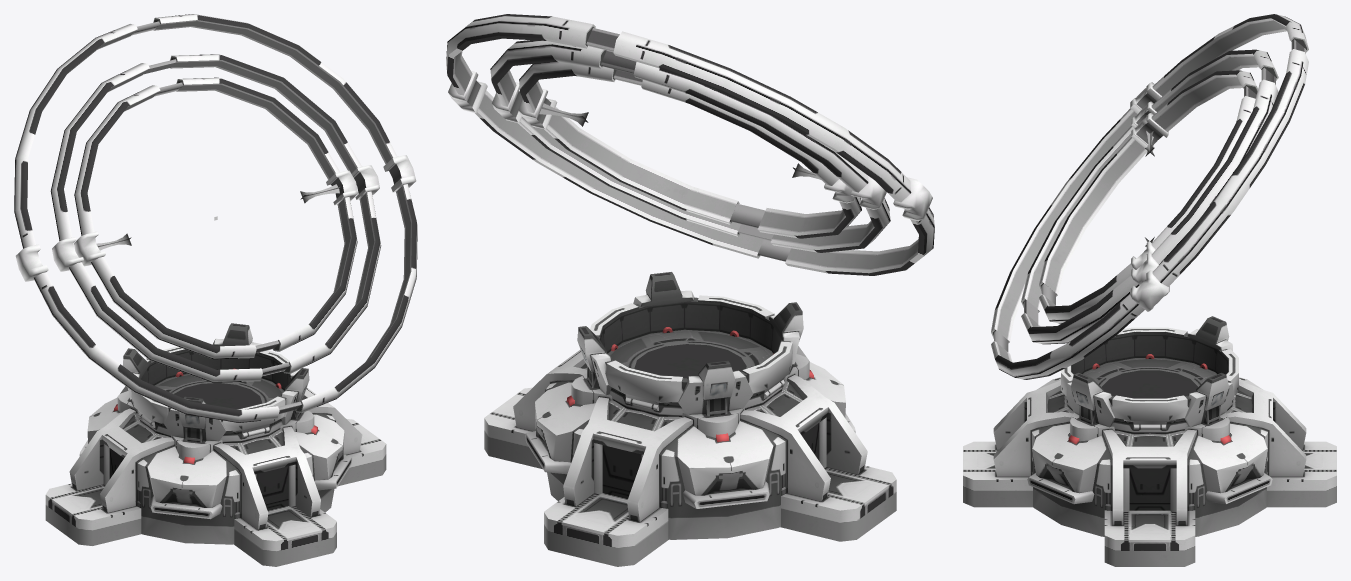
File: fusion-reactor.glb
3 views of the same model, side by side, from view 1: azimuth 30°, elevation 25°; view 2: azimuth 150°, elevation 25°; view 3: azimuth 270°, elevation 25° (orthographic). The views are drawn at different scales.
Parts seen in each view (by area): view 1: fusion-reactor-b, fusion-reactor, fusion-reactor-4, fusion-reactor-4-1, fusion-reactor-3, fusion-reactor-3-1, fusion-reactor-2, fusion-reactor-2-1, fusion-reactor-c, fusion-reactor-a, fusion-reactor-1; view 2: fusion-reactor-a, fusion-reactor-b, fusion-reactor-4, fusion-reactor-c, fusion-reactor-4-1, fusion-reactor-2-1, fusion-reactor-3, fusion-reactor, fusion-reactor-3-1, fusion-reactor-2, fusion-reactor-1; view 3: fusion-reactor-c, fusion-reactor, fusion-reactor-a, fusion-reactor-4-1, fusion-reactor-4, fusion-reactor-2, fusion-reactor-3-1, fusion-reactor-3, fusion-reactor-2-1, fusion-reactor-b, fusion-reactor-1.
Boxes of the visible parts, box(x1,y1,x2,y2) form: fusion-reactor-b: box(45, 390, 268, 545); fusion-reactor: box(214, 358, 352, 566); fusion-reactor-4: box(14, 24, 301, 422); fusion-reactor-4-1: box(131, 14, 417, 412); fusion-reactor-3: box(50, 59, 262, 382); fusion-reactor-3-1: box(170, 54, 381, 376); fusion-reactor-2: box(74, 85, 279, 359); fusion-reactor-2-1: box(155, 77, 357, 351); fusion-reactor-c: box(166, 323, 386, 486); fusion-reactor-a: box(79, 342, 208, 455); fusion-reactor-1: box(174, 383, 262, 408); fusion-reactor-a: box(544, 360, 790, 566); fusion-reactor-b: box(709, 302, 896, 541); fusion-reactor-4: box(613, 31, 934, 275); fusion-reactor-c: box(484, 303, 659, 500); fusion-reactor-4-1: box(446, 14, 763, 258); fusion-reactor-2-1: box(518, 61, 739, 224); fusion-reactor-3: box(601, 50, 890, 252); fusion-reactor: box(603, 272, 809, 361); fusion-reactor-3-1: box(490, 40, 773, 240); fusion-reactor-2: box(641, 80, 861, 238); fusion-reactor-1: box(634, 344, 746, 378); fusion-reactor-c: box(1103, 361, 1272, 566); fusion-reactor: box(963, 365, 1166, 536); fusion-reactor-a: box(1134, 316, 1336, 507); fusion-reactor-4-1: box(991, 39, 1308, 379); fusion-reactor-4: box(991, 14, 1308, 351); fusion-reactor-2: box(1039, 70, 1257, 304); fusion-reactor-3-1: box(1021, 79, 1278, 344); fusion-reactor-3: box(1021, 49, 1278, 312); fusion-reactor-2-1: box(1039, 86, 1256, 323); fusion-reactor-b: box(1037, 327, 1187, 405); fusion-reactor-1: box(1102, 370, 1197, 398).
Bounding box in the file's own units: 8.8 × 9.2 × 7.
Materials: 2 (1 with a texture image).
